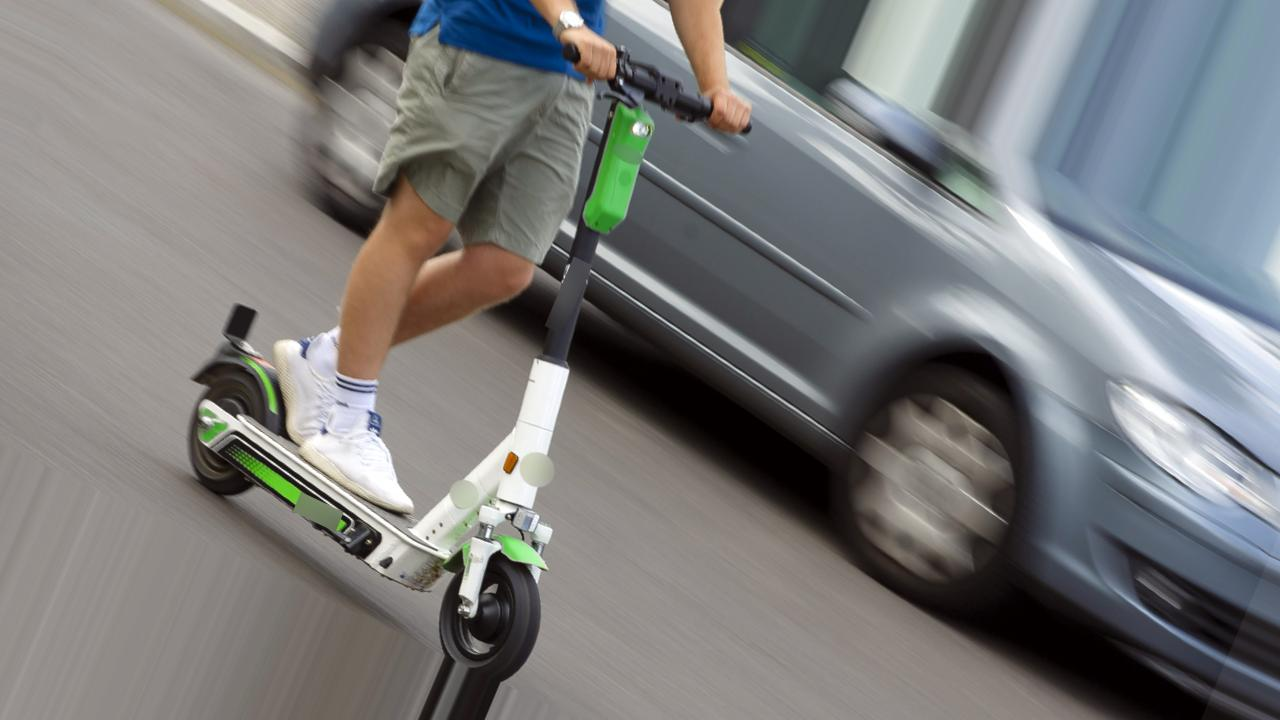scooter: (189, 42, 756, 684)
